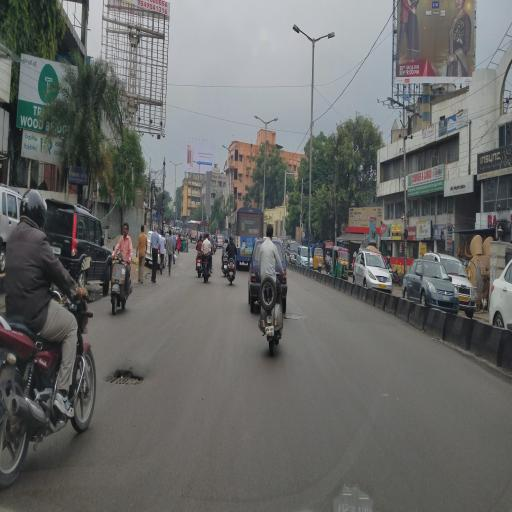street_light_0: (283, 20, 312, 58), (313, 20, 341, 58), (266, 108, 284, 134), (245, 104, 263, 130)
